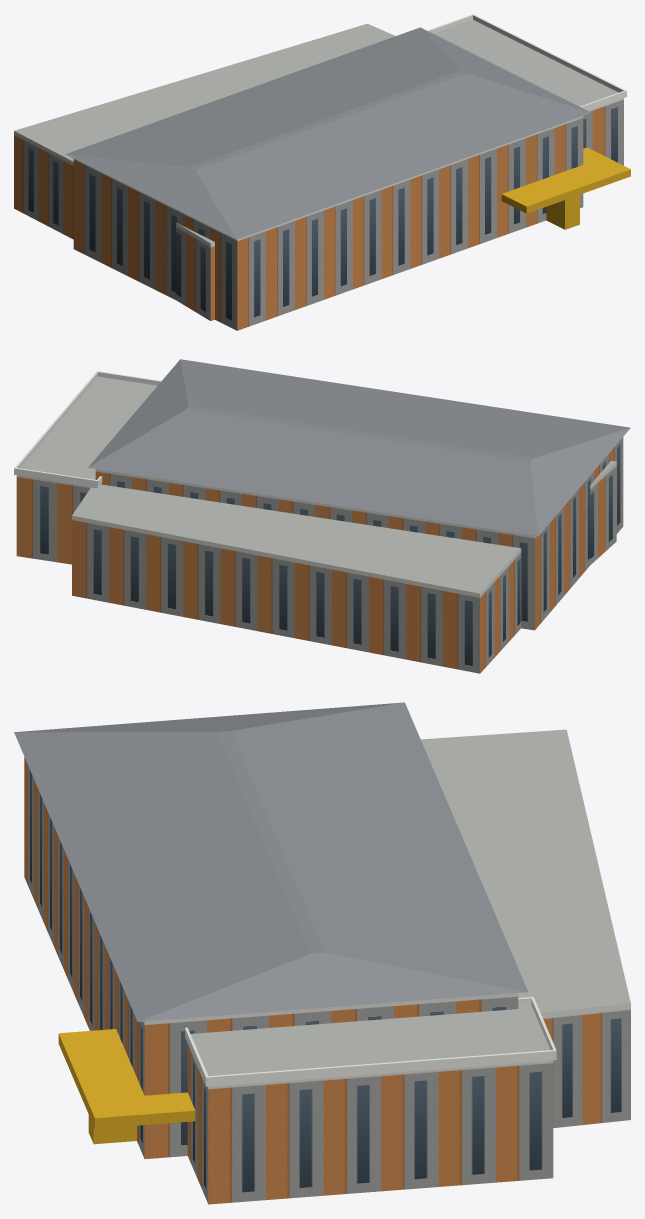
Rendered from fengyun_juchang.glb.
The picture shows the model from 3 angles, top to bottom: view 1: azimuth 30°, elevation 25°; view 2: azimuth 150°, elevation 25°; view 3: azimuth 270°, elevation 25°; orthographic projection. The views are drawn at different scales.
Parts seen in each view (by area): view 1: 风云剧场; view 2: 风云剧场; view 3: 风云剧场.
Part boxes in pixels (x1=…): 风云剧场: x1=14, y1=14, x2=630, y2=330; 风云剧场: x1=14, y1=359, x2=630, y2=673; 风云剧场: x1=14, y1=702, x2=630, y2=1204.
Bounding box in the file's own units: 58.64 × 12.2 × 42.25.
Materials: 5 (1 with a texture image).
